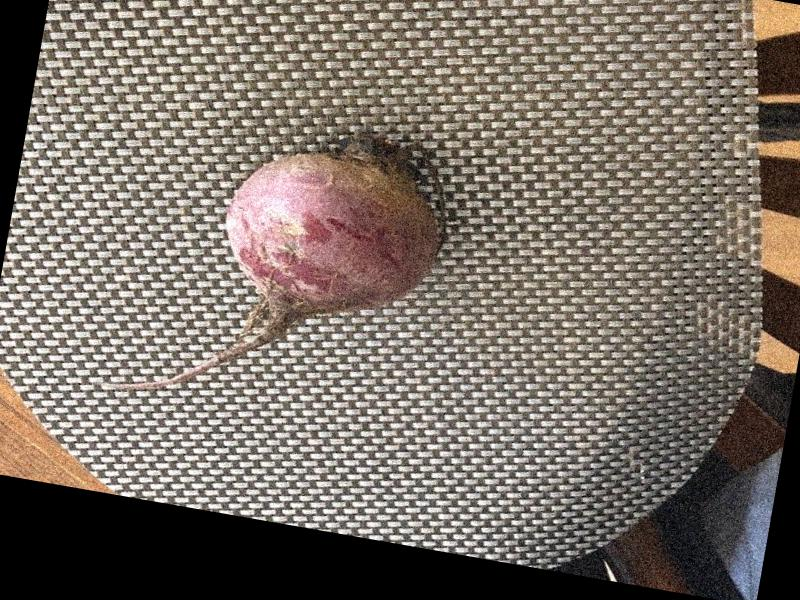Beet: (101, 94, 457, 442)
